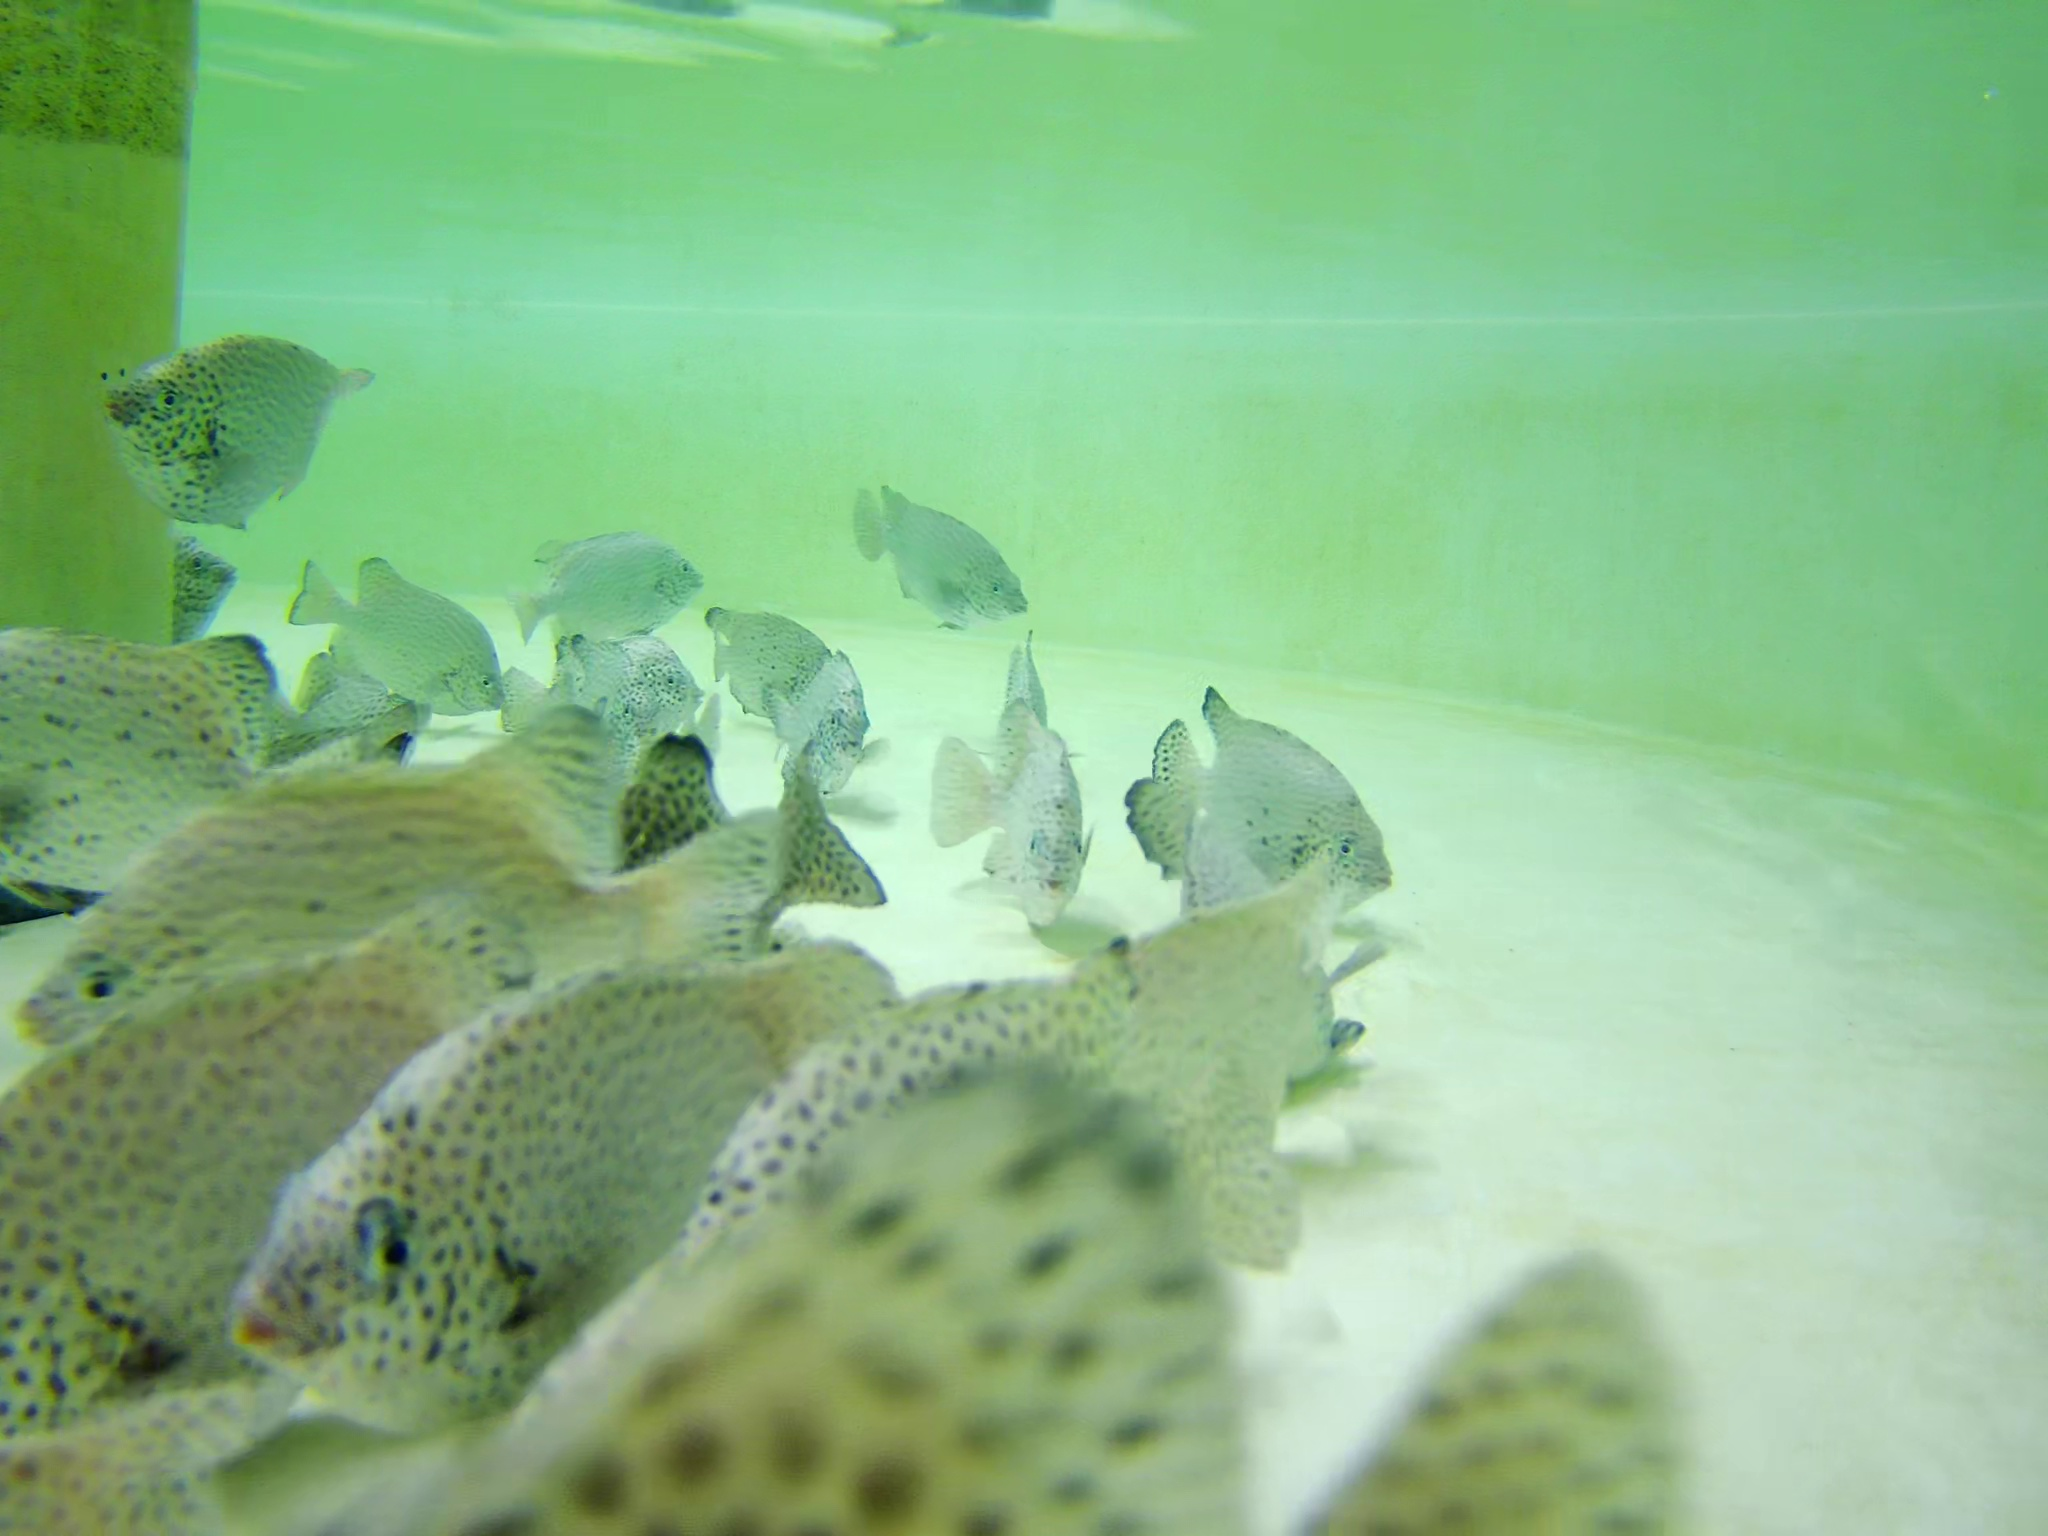fish: (256, 1073, 1687, 1536), (2, 863, 789, 1447), (239, 928, 922, 1442), (39, 712, 893, 1075), (674, 883, 1338, 1329), (2, 620, 442, 902), (1124, 684, 1397, 913), (106, 319, 371, 524), (289, 541, 510, 736), (930, 720, 1100, 910), (853, 476, 1035, 628), (497, 623, 705, 747), (508, 520, 701, 642), (701, 605, 847, 724), (768, 644, 879, 787), (1003, 621, 1056, 787), (176, 539, 239, 632)
